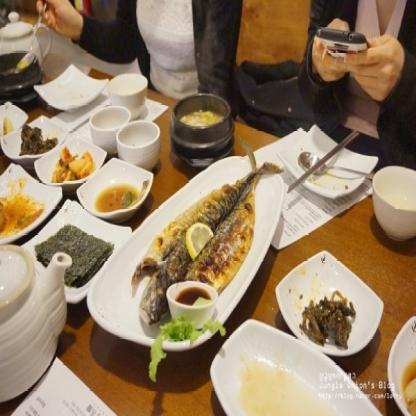Peixe: (127, 145, 284, 328)
